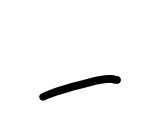div: (36, 73, 122, 100)
